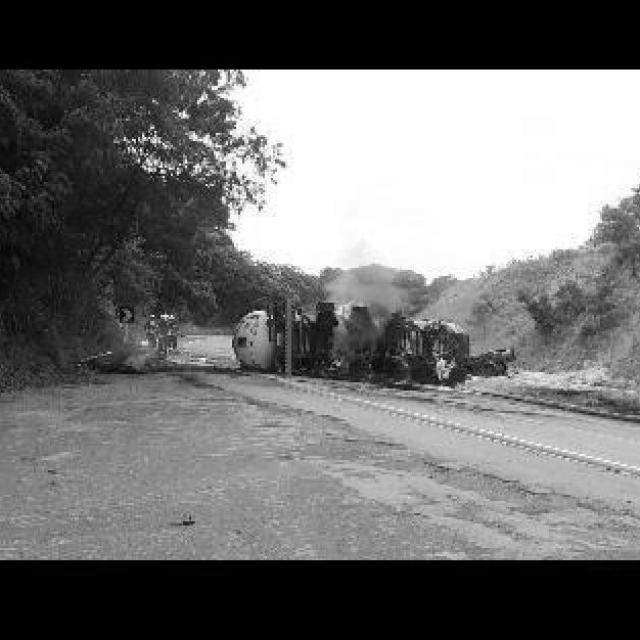fire: (332, 292, 362, 318), (434, 358, 454, 380), (332, 360, 344, 366)
smoke: (355, 260, 404, 322), (316, 262, 355, 302), (124, 348, 152, 368)
